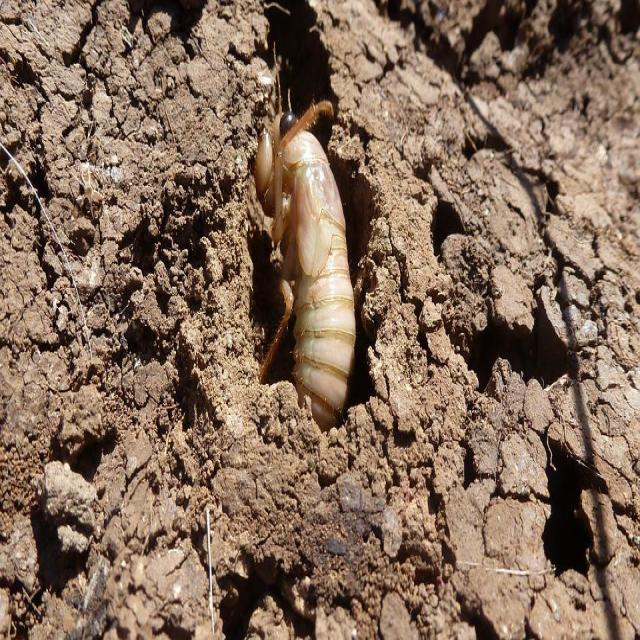Grub-Adult-: (255, 84, 363, 432)
